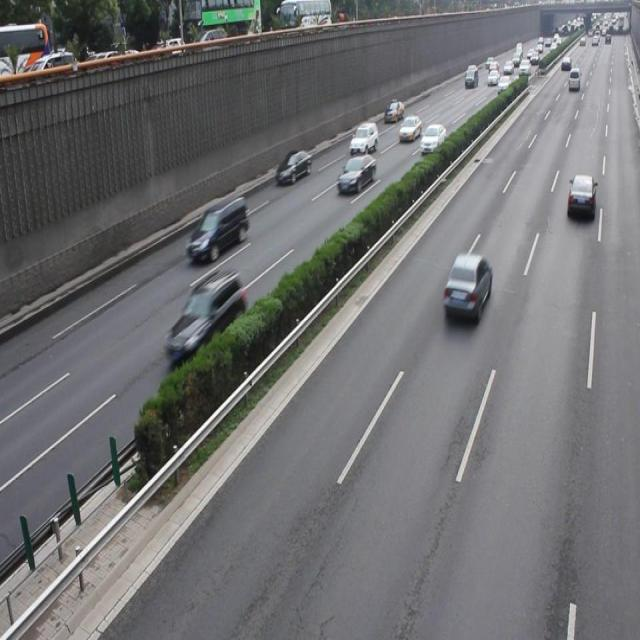car: (162, 270, 245, 366), (442, 252, 490, 319), (335, 153, 376, 193), (274, 147, 311, 185), (566, 174, 594, 220)
truck: (186, 193, 248, 261)
